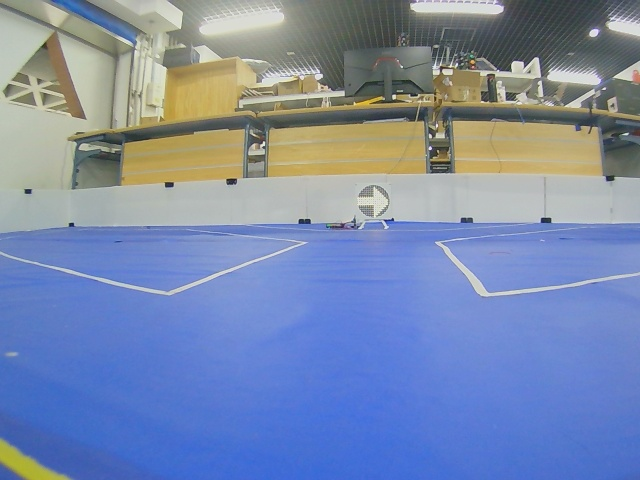right_yellow: (357, 185, 390, 218)
